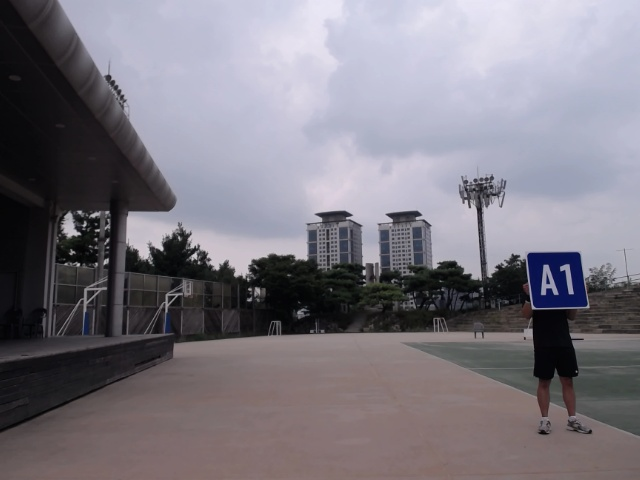delivery_a1: (526, 251, 589, 308)
